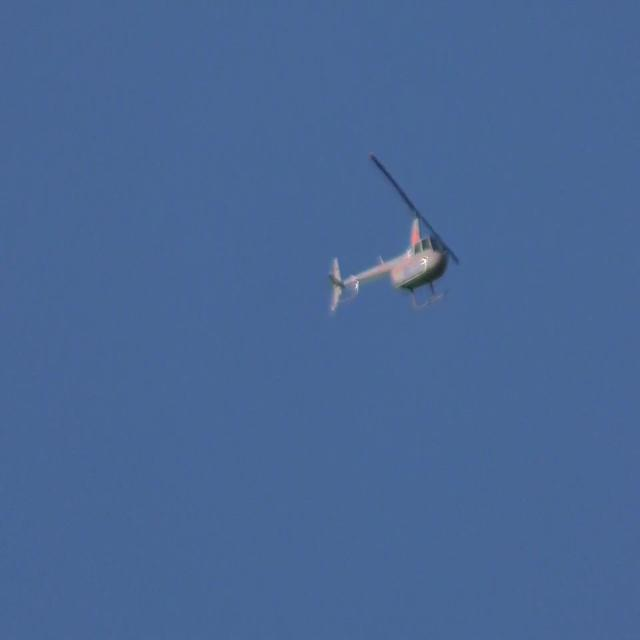CIV_HELO: (328, 212, 450, 315)
